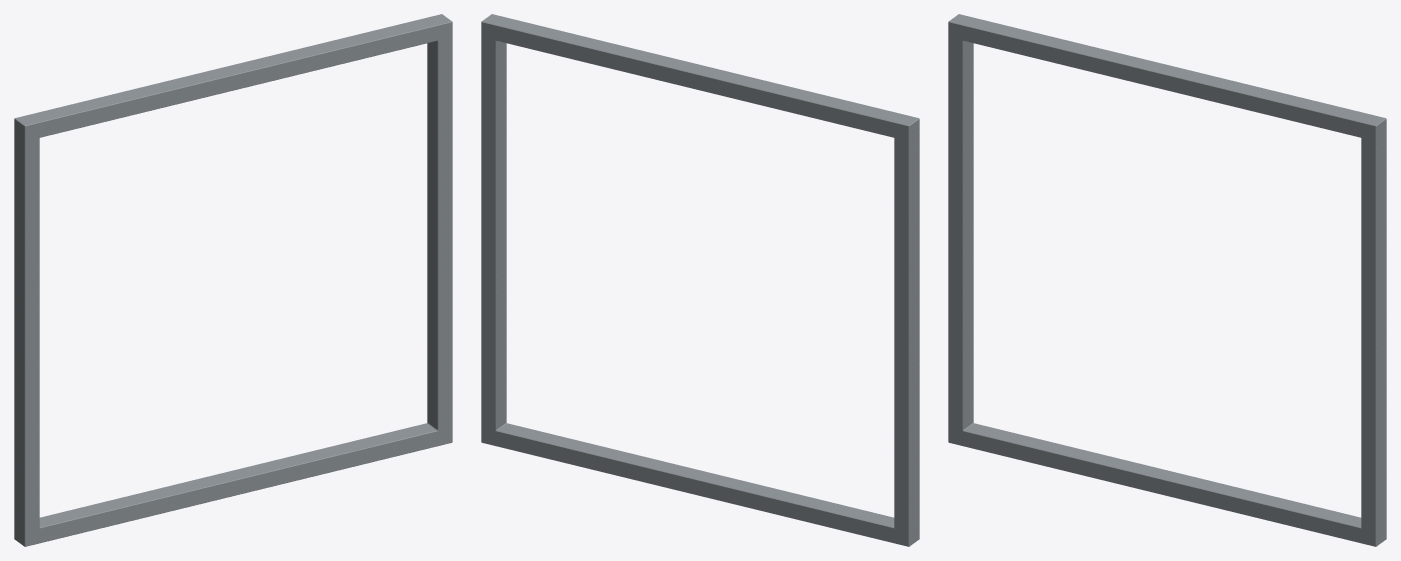
Rendered from restroom_mirror_frame.glb.
3 renders of one model, left to right at view 1: azimuth 30°, elevation 25°; view 2: azimuth 150°, elevation 25°; view 3: azimuth 330°, elevation 25°, orthographic.
Parts seen in each view (by area): view 1: restroom_mirror_frame; view 2: restroom_mirror_frame; view 3: restroom_mirror_frame.
Boxes of the visible parts, x1,y1,x2,y2 form: restroom_mirror_frame: (14, 14, 452, 546); restroom_mirror_frame: (481, 14, 919, 546); restroom_mirror_frame: (948, 14, 1386, 546).
Size of the model in its own units: 0.968 by 0.91 by 0.042.
1 material, 1 textured.
